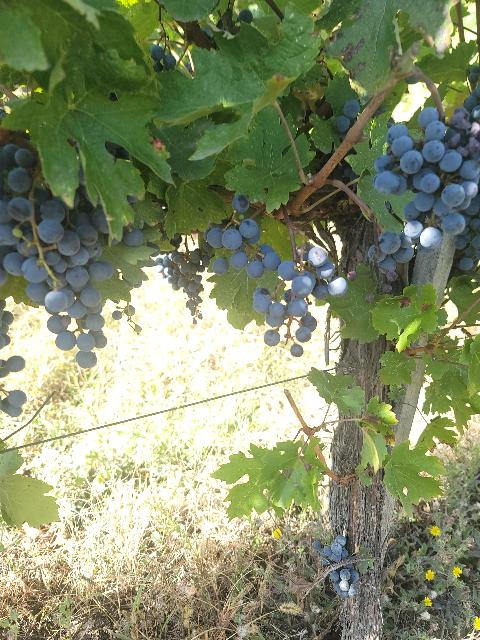grapes: (0, 144, 116, 368), (374, 89, 480, 249), (252, 246, 348, 358), (155, 244, 209, 324)
